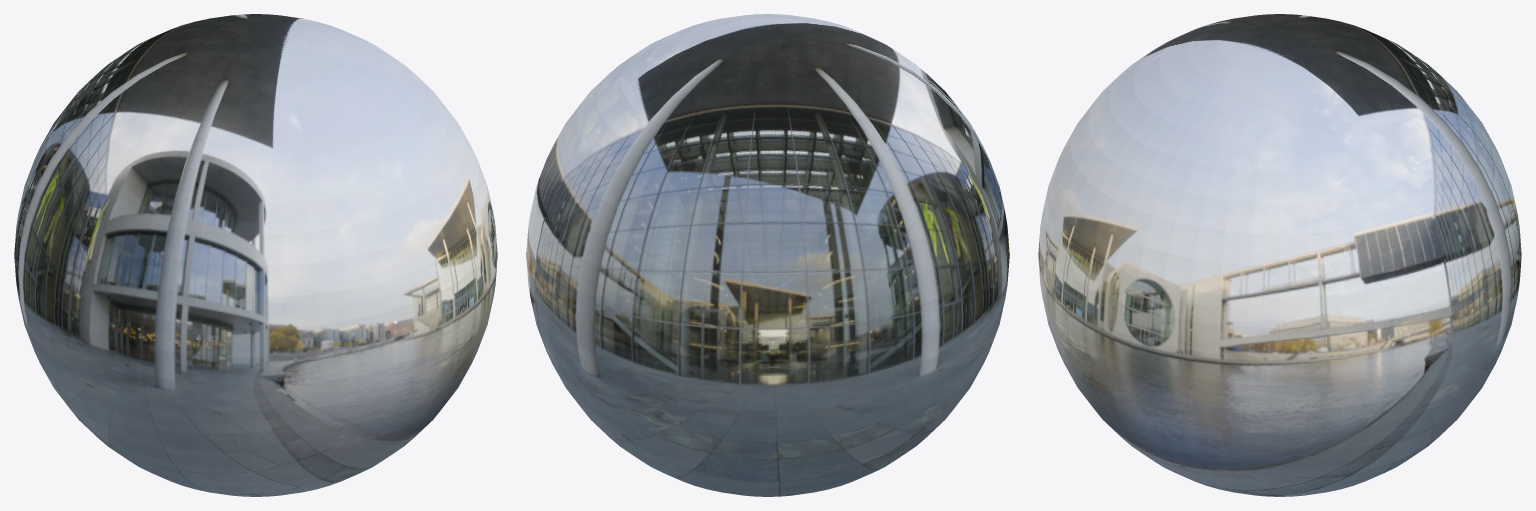
Rendered from solteiro-2048.glb.
The picture shows the model from 3 angles, left to right: view 1: azimuth 30°, elevation 25°; view 2: azimuth 150°, elevation 25°; view 3: azimuth 270°, elevation 25°; orthographic projection.
Visible parts, largest first — view 1: fora; view 2: fora; view 3: fora.
Boxes of the visible parts, x1,y1,x2,y2 form: fora: (14,14,497,496); fora: (526,14,1009,496); fora: (1038,14,1521,496).
Bounding box in the file's own units: 80 × 80 × 80.
3 materials, 3 textured.
